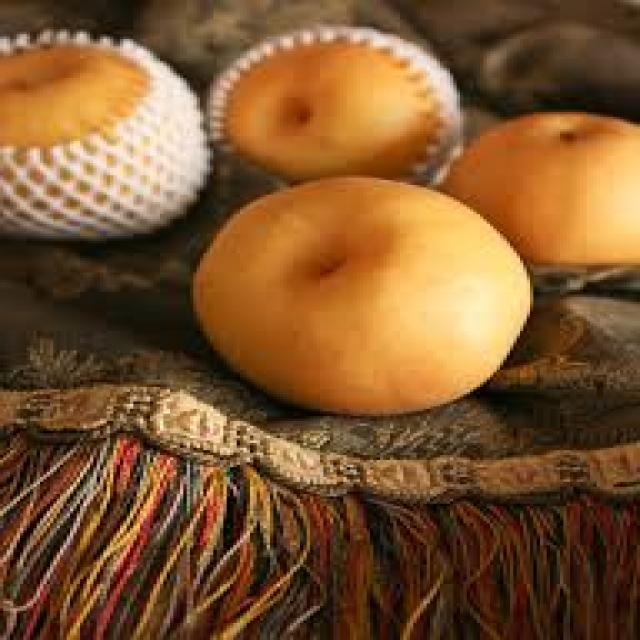pear: (193, 178, 533, 415)
